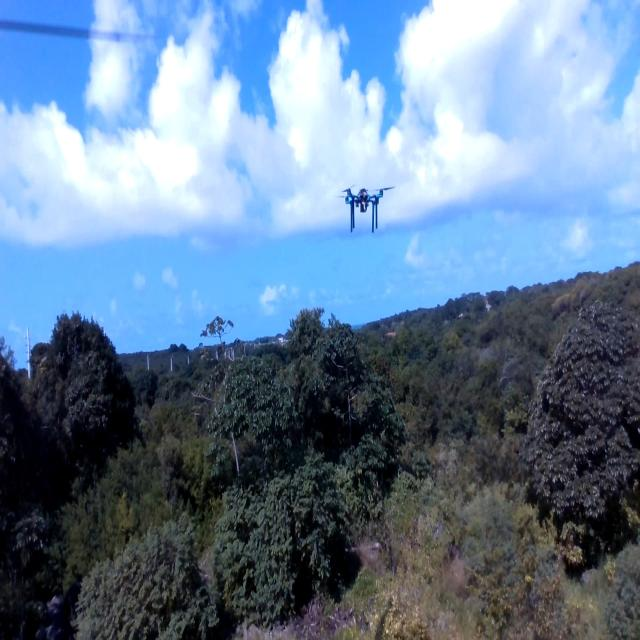-uav-: (329, 173, 411, 234)
